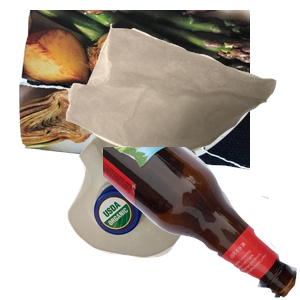glass: (103, 147, 300, 300)
paper: (16, 10, 256, 172)
plastic: (65, 123, 257, 300)
trash: (63, 21, 300, 172)
